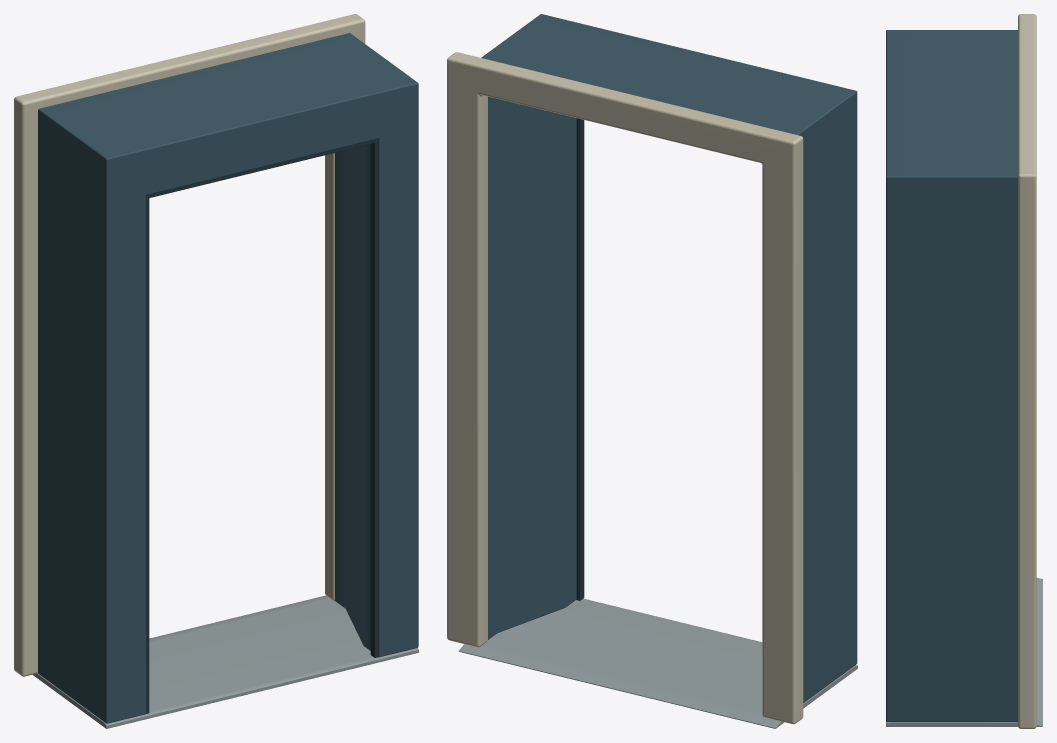
Rendered from city_shop_fittings_03_single.glb.
3 renders of one model, left to right at view 1: azimuth 30°, elevation 25°; view 2: azimuth 150°, elevation 25°; view 3: azimuth 270°, elevation 25°, orthographic. The views are drawn at different scales.
Visible parts, largest first — view 1: single_recessed_reveal, single_rounded_face_casing, single_sloped_threshold, single_rear_stop; view 2: single_recessed_reveal, single_rounded_face_casing, single_sloped_threshold, single_rear_stop; view 3: single_recessed_reveal, single_rounded_face_casing, single_sloped_threshold.
Boxes of the visible parts, x1,y1,x2,y2 form: single_recessed_reveal: (38,33,418,723); single_rounded_face_casing: (14,14,365,676); single_sloped_threshold: (32,595,418,728); single_rear_stop: (146,139,378,713); single_recessed_reveal: (481,14,857,702); single_rounded_face_casing: (447,52,803,724); single_sloped_threshold: (458,598,857,728); single_rear_stop: (576,118,584,600); single_recessed_reveal: (886,30,1017,721); single_rounded_face_casing: (1018,14,1036,728); single_sloped_threshold: (886,577,1042,726).
Bounding box in the file's own units: 1.54 × 2.48 × 0.63.
